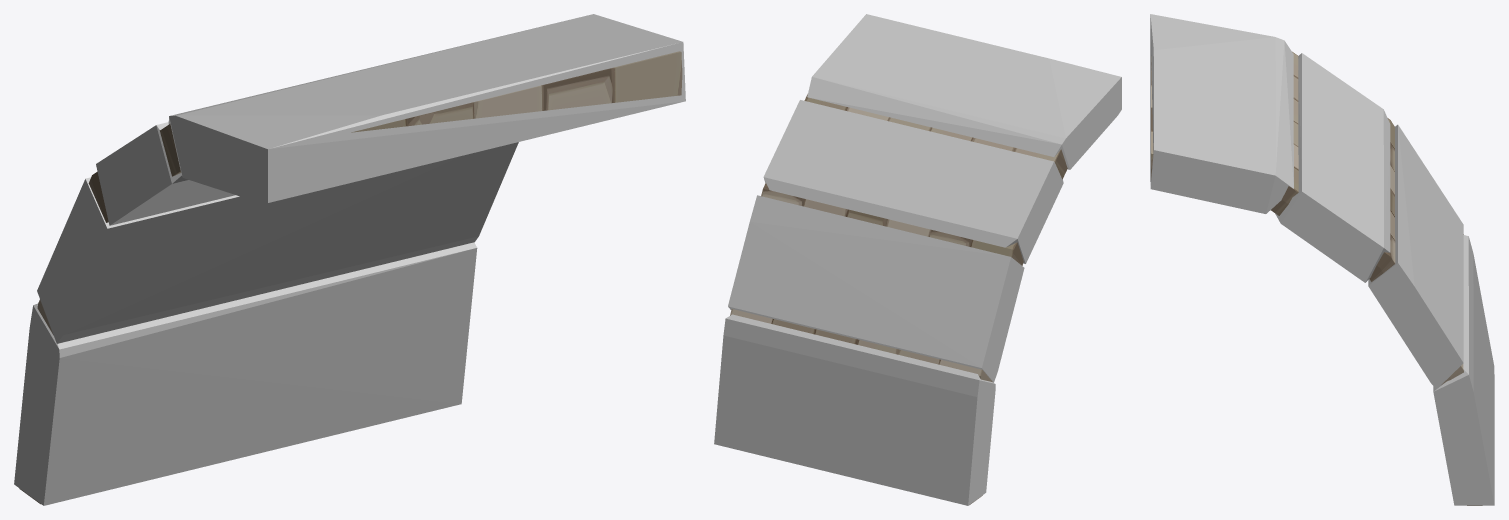
File: SM_Bld_Wall_Curved_Arch_01.fbx
3 renders of one model, left to right at view 1: azimuth 30°, elevation 25°; view 2: azimuth 150°, elevation 25°; view 3: azimuth 270°, elevation 25°, orthographic. The views are drawn at different scales.
Parts seen in each view (by area): view 1: SM_Bld_Wall_Curved_Arch_01_ConvexHulls, SM_Bld_Wall_Curved_Arch_01; view 2: SM_Bld_Wall_Curved_Arch_01_ConvexHulls, SM_Bld_Wall_Curved_Arch_01; view 3: SM_Bld_Wall_Curved_Arch_01_ConvexHulls, SM_Bld_Wall_Curved_Arch_01.
Part boxes in pixels (bbox=[...]): SM_Bld_Wall_Curved_Arch_01_ConvexHulls: bbox=[14, 14, 685, 505]; SM_Bld_Wall_Curved_Arch_01: bbox=[19, 51, 682, 504]; SM_Bld_Wall_Curved_Arch_01_ConvexHulls: bbox=[714, 14, 1121, 505]; SM_Bld_Wall_Curved_Arch_01: bbox=[730, 94, 1067, 504]; SM_Bld_Wall_Curved_Arch_01_ConvexHulls: bbox=[1150, 14, 1494, 505]; SM_Bld_Wall_Curved_Arch_01: bbox=[1151, 51, 1482, 505].
Bounding box in the file's own units: 253 × 266 × 304.
Materials: 2 (1 with a texture image).
